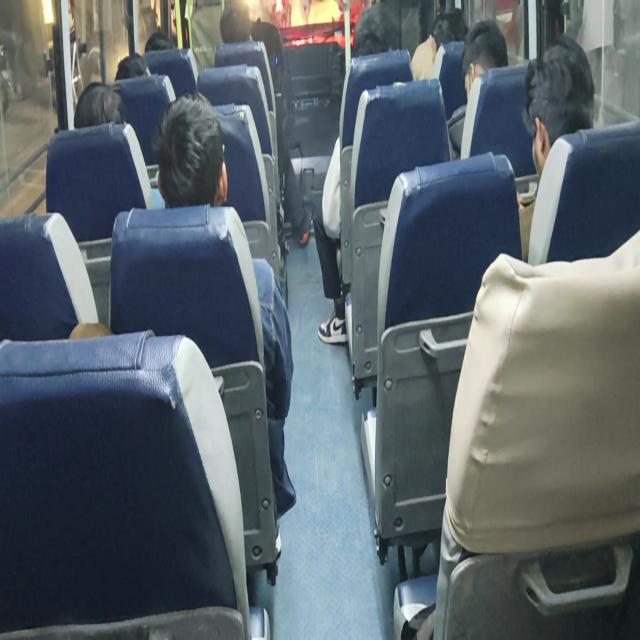person: (167, 119, 236, 208), (533, 73, 604, 158), (334, 6, 398, 56), (435, 6, 495, 49), (461, 36, 519, 72), (79, 88, 135, 124), (222, 2, 258, 58), (110, 64, 161, 80), (150, 32, 185, 50)
